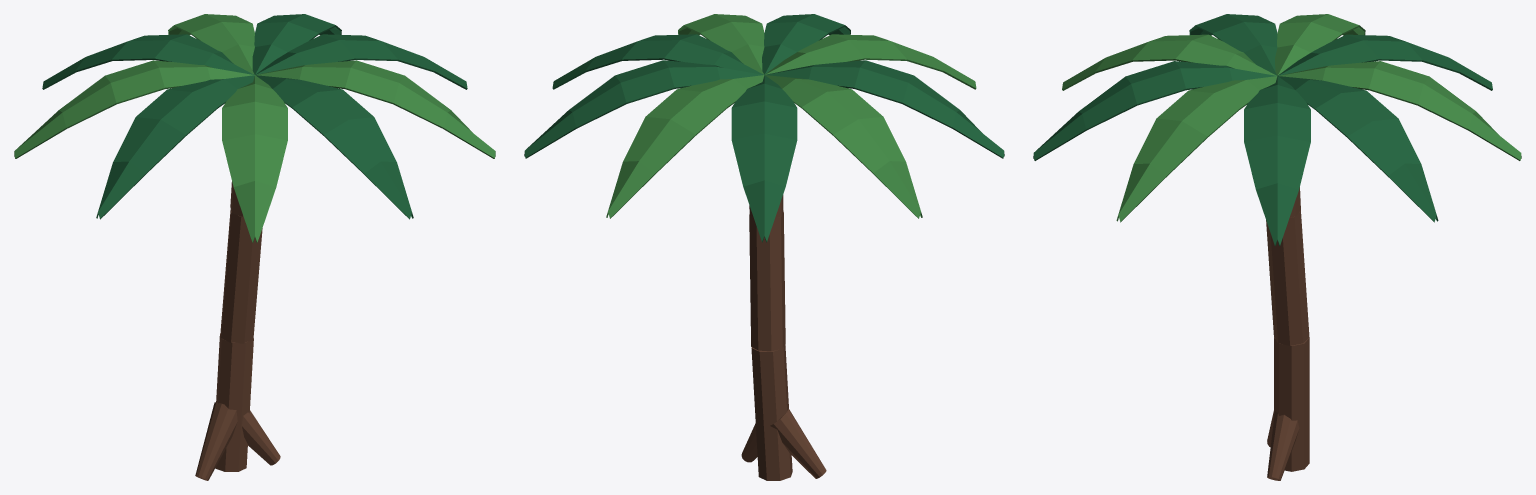
Rendered from palm.glb.
The picture shows the model from 3 angles, left to right: view 1: azimuth 30°, elevation 25°; view 2: azimuth 150°, elevation 25°; view 3: azimuth 270°, elevation 25°; orthographic projection.
Parts seen in each view (by area): view 1: Canopy, Trunk; view 2: Canopy, Trunk; view 3: Canopy, Trunk.
Boxes of the visible parts, box(x1,y1,x2,y2) form: Canopy: box(14, 14, 495, 242); Trunk: box(195, 181, 280, 480); Canopy: box(524, 14, 1004, 242); Trunk: box(741, 195, 826, 480); Canopy: box(1033, 14, 1521, 245); Trunk: box(1266, 187, 1309, 480).
Bounding box in the file's own units: 6.74 × 6.37 × 6.84.
